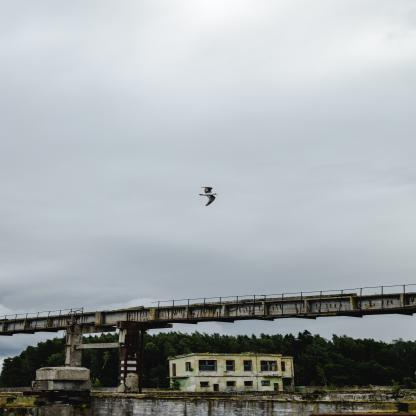bird: (198, 186, 219, 206)
